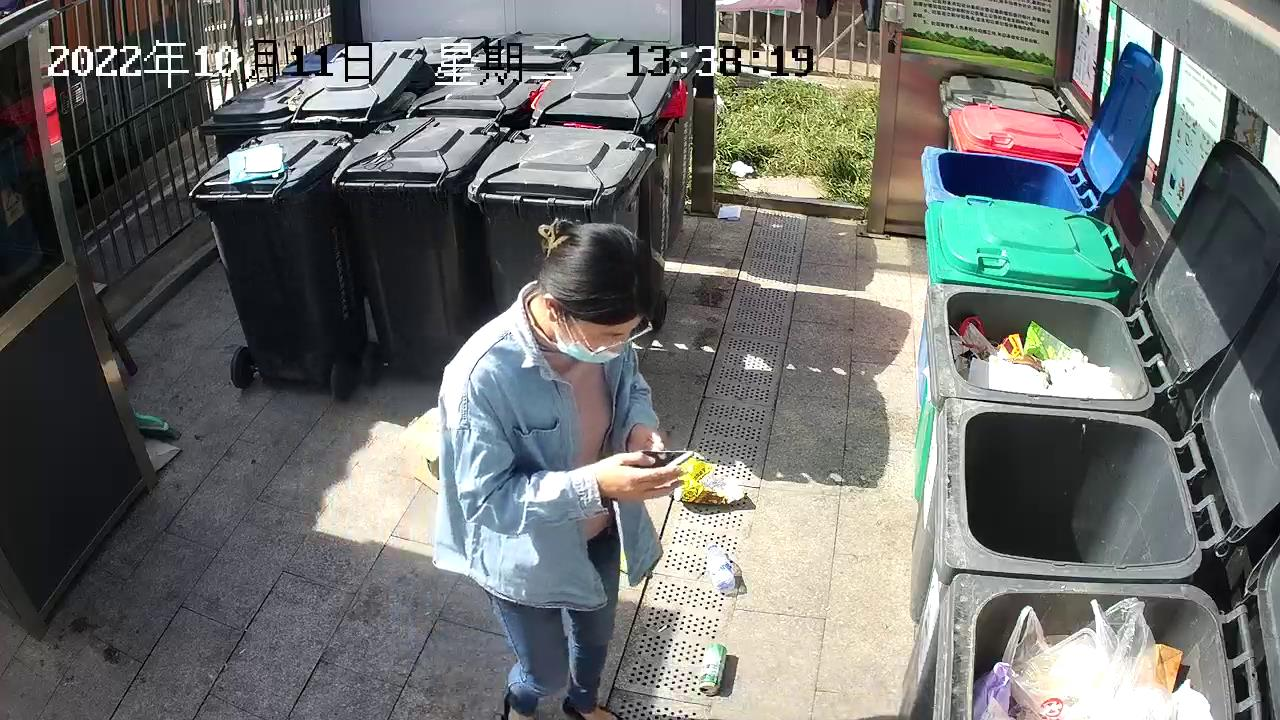garbage: (665, 446, 751, 508)
lvzhipin: (697, 640, 730, 697)
suliaozhipin: (702, 536, 736, 595)
worker: (429, 212, 694, 720)
zhizhipin: (396, 401, 452, 493)
